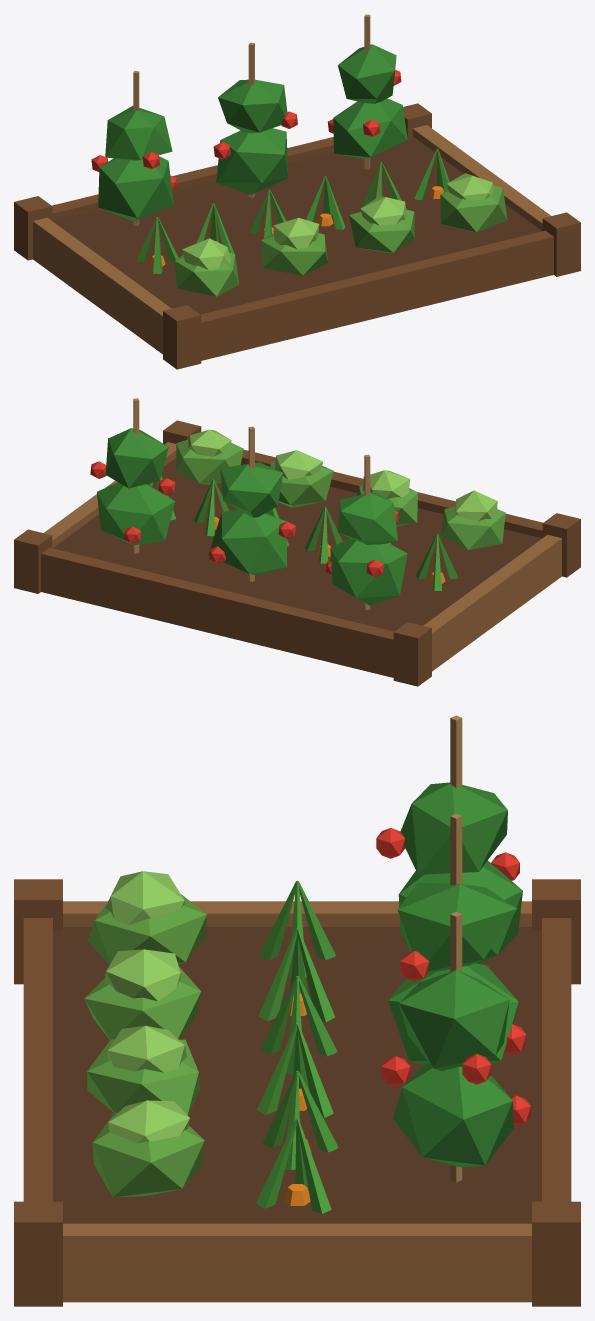
The model's file is prop_vegetable_garden_v01.glb.
3 views of the same model, one above another, from view 1: azimuth 30°, elevation 25°; view 2: azimuth 150°, elevation 25°; view 3: azimuth 270°, elevation 25° (orthographic). The views are drawn at different scales.
Visible parts, largest first — view 1: prop_vegetable_garden_v01; view 2: prop_vegetable_garden_v01; view 3: prop_vegetable_garden_v01.
Boxes of the visible parts, left/top/right/bottom form: prop_vegetable_garden_v01: left=14, top=14, right=580, bottom=369; prop_vegetable_garden_v01: left=14, top=398, right=580, bottom=686; prop_vegetable_garden_v01: left=14, top=715, right=580, bottom=1306.
Bounding box in the file's own units: 3.32 × 1.44 × 2.32.
